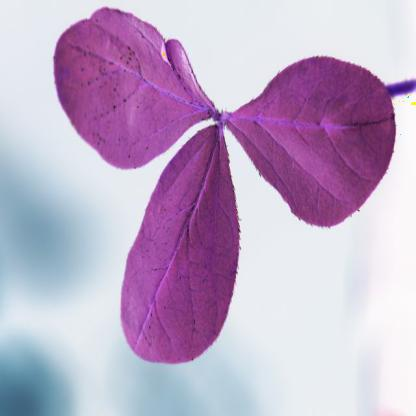Soyabean leaf: (229, 49, 400, 234), (114, 121, 240, 372), (48, 3, 215, 179)
